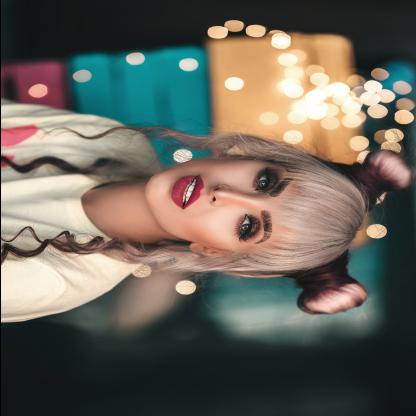Eye: (249, 165, 275, 192), (233, 212, 257, 240)
Mouth: (170, 174, 206, 211)
Nose: (208, 184, 254, 208)
